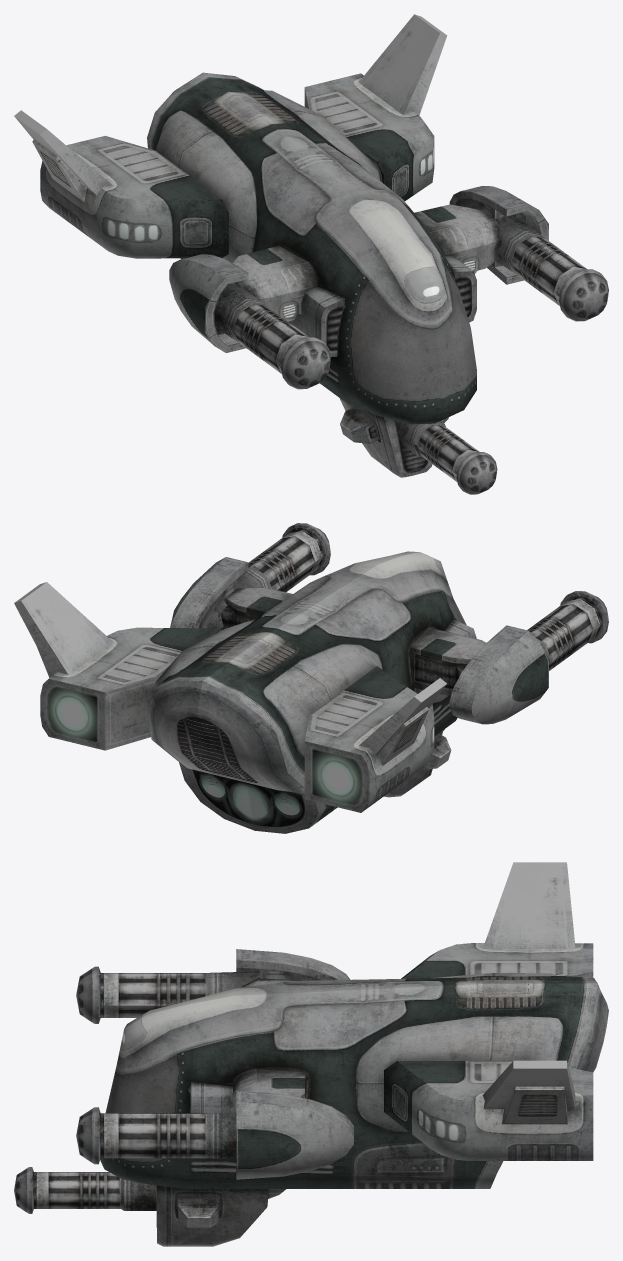
The model's file is 23713_lite.glb.
3 renders of one model, top to bottom at view 1: azimuth 30°, elevation 25°; view 2: azimuth 150°, elevation 25°; view 3: azimuth 270°, elevation 25°, orthographic. The views are drawn at different scales.
Visible parts, largest first — view 1: ship; view 2: ship; view 3: ship.
Part boxes in pixels (x1,y1,x2,y2): ship: (14,14,608,494); ship: (14,523,608,833); ship: (14,862,608,1246).
Bounding box in the file's own units: 0.0548 × 0.0348 × 0.067.
Materials: 1 (1 with a texture image).
